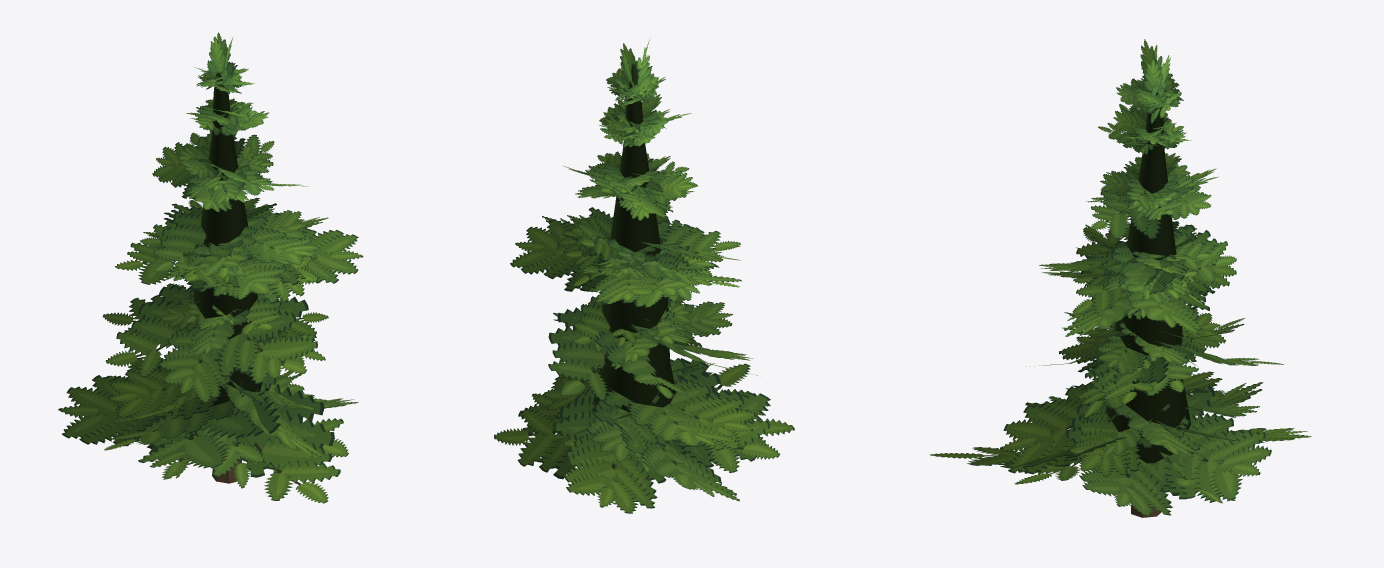
Rendered from fir4_e.glb.
3 renders of one model, left to right at view 1: azimuth 30°, elevation 25°; view 2: azimuth 150°, elevation 25°; view 3: azimuth 270°, elevation 25°, orthographic. The views are drawn at different scales.
Parts seen in each view (by area): view 1: fir4_e; view 2: fir4_e; view 3: fir4_e.
Boxes of the visible parts, x1,y1,x2,y2 form: fir4_e: (58,32,363,503); fir4_e: (494,39,794,513); fir4_e: (930,39,1311,517).
Bounding box in the file's own units: 4.35 × 5.72 × 5.15.
Materials: 2 (2 with a texture image).
